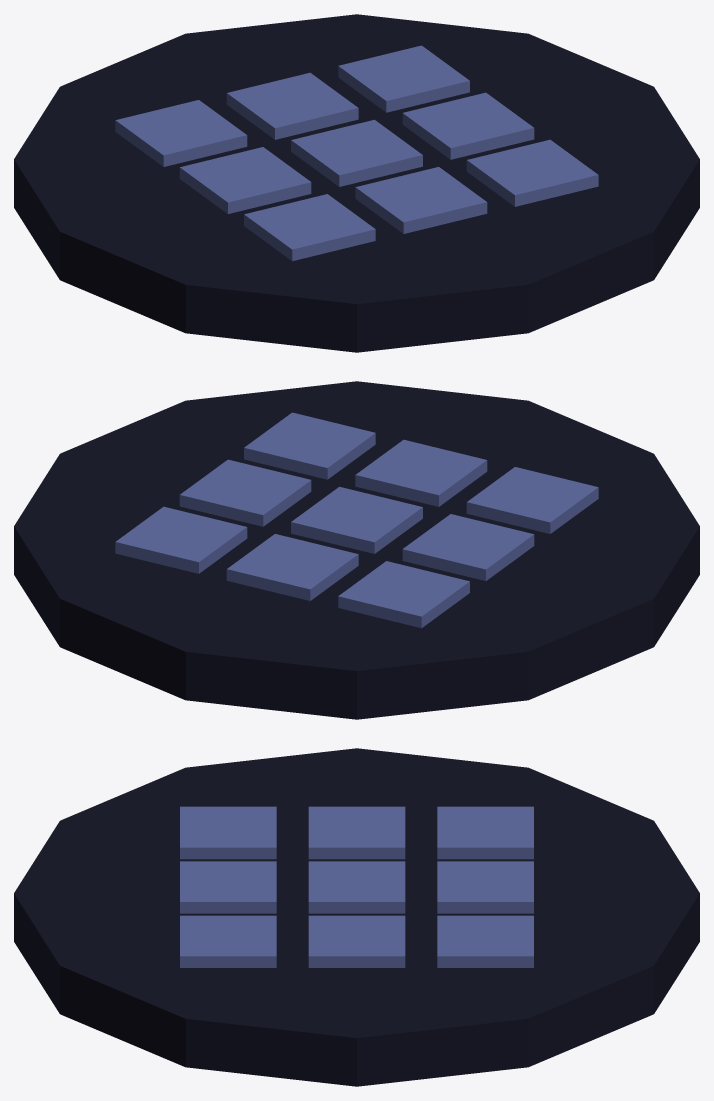
File: silicon.glb
3 renders of one model, top to bottom at view 1: azimuth 30°, elevation 25°; view 2: azimuth 150°, elevation 25°; view 3: azimuth 270°, elevation 25°, orthographic.
Visible parts, largest first — view 1: silicon; view 2: silicon; view 3: silicon.
Part boxes in pixels (<box>): silicon: <box>14,14,699,352</box>; silicon: <box>14,381,699,719</box>; silicon: <box>14,748,699,1086</box>.
Bounding box in the file's own units: 0.32 × 0.031 × 0.32.
Materials: 1 (1 with a texture image).
